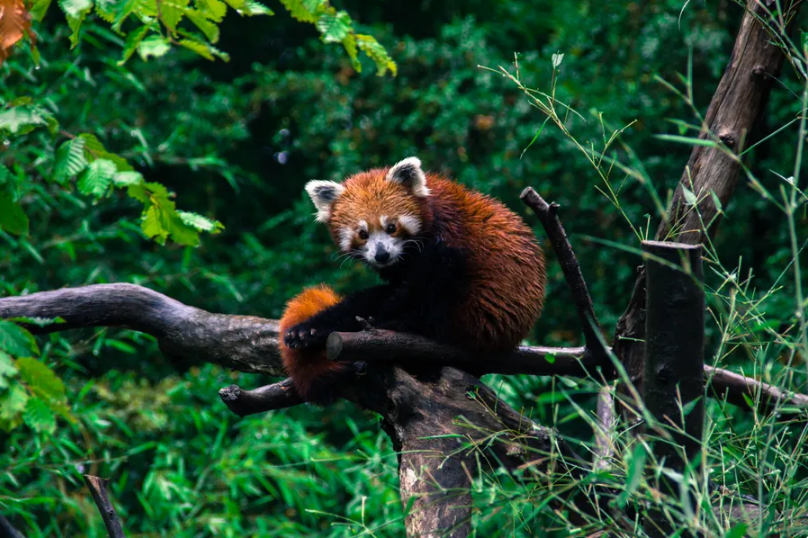red_panda: (294, 153, 556, 348)
